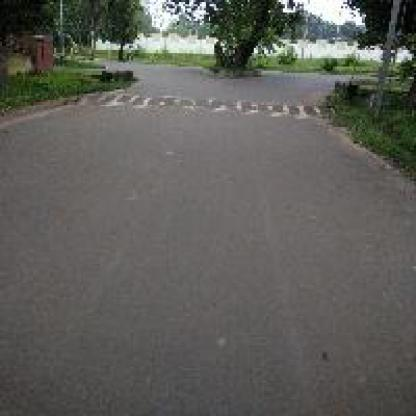Speed Bump: (84, 90, 322, 116)
